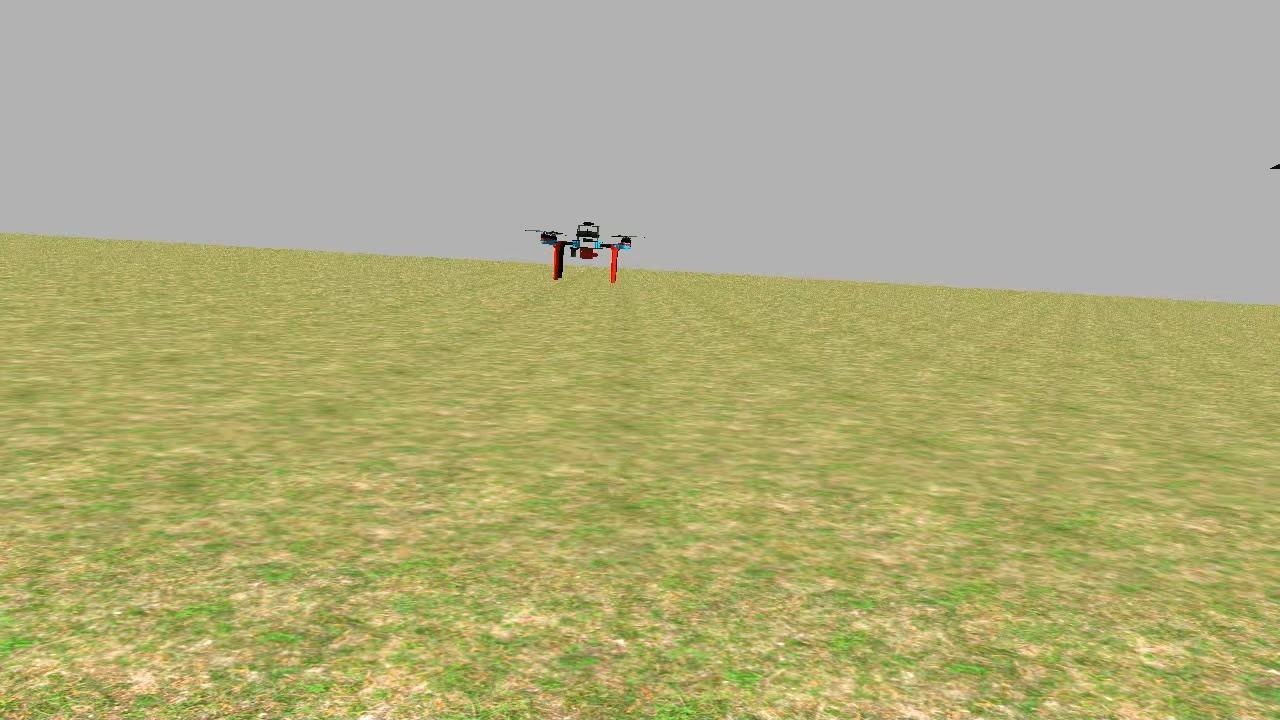UAV: (534, 216, 640, 286)
